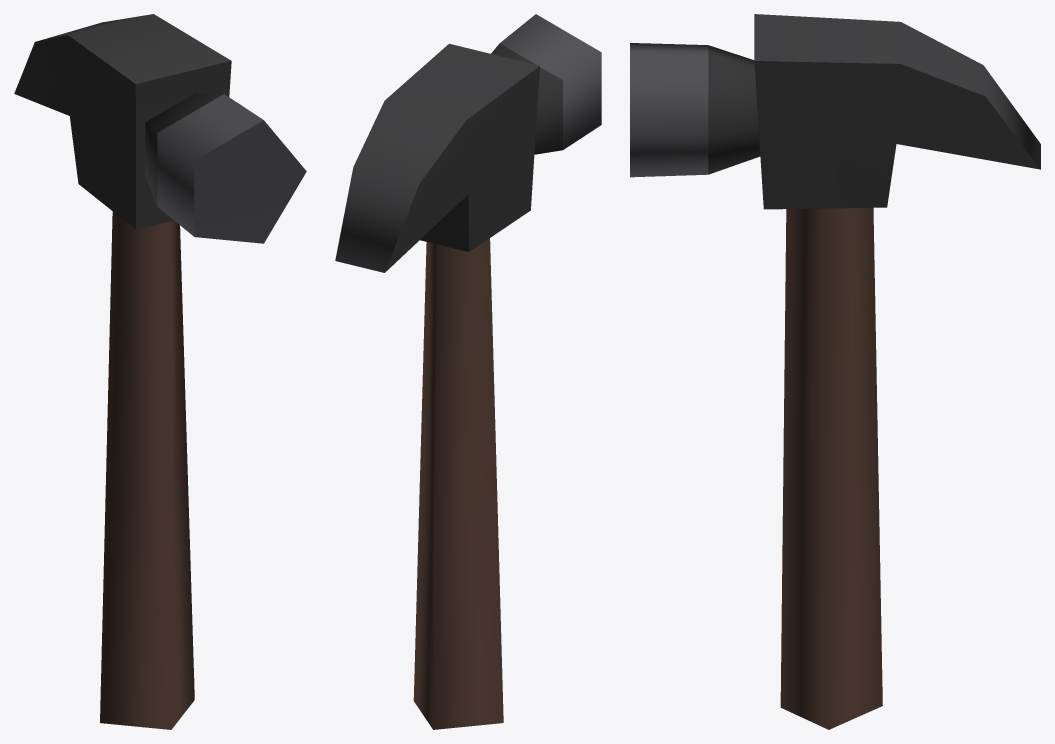
The model's file is w_hammer.FBX.
3 renders of one model, left to right at view 1: azimuth 30°, elevation 25°; view 2: azimuth 150°, elevation 25°; view 3: azimuth 270°, elevation 25°, orthographic. The views are drawn at different scales.
Parts seen in each view (by area): view 1: w_hammer; view 2: w_hammer; view 3: w_hammer.
Boxes of the visible parts, box(x1,y1,x2,y2) form: w_hammer: box(14, 14, 306, 729); w_hammer: box(335, 14, 601, 729); w_hammer: box(630, 14, 1040, 729).
Bounding box in the file's own units: 5.62 × 31.92 × 17.74.
Materials: 1 (1 with a texture image).
